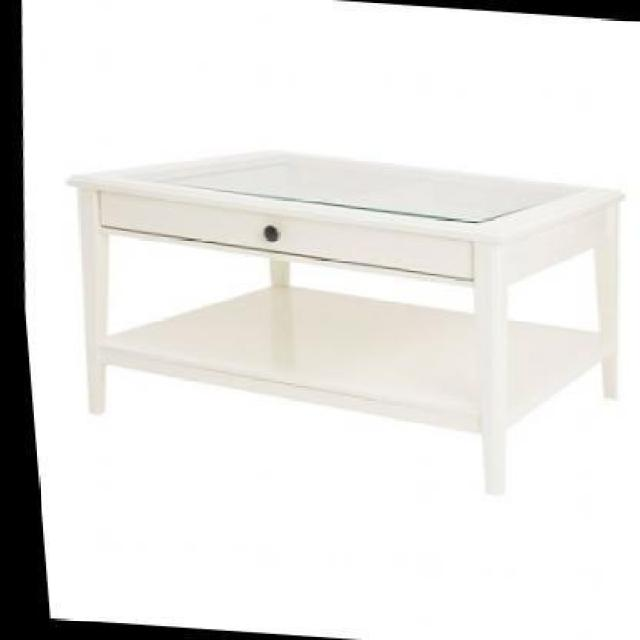tables: (65, 147, 624, 496)
